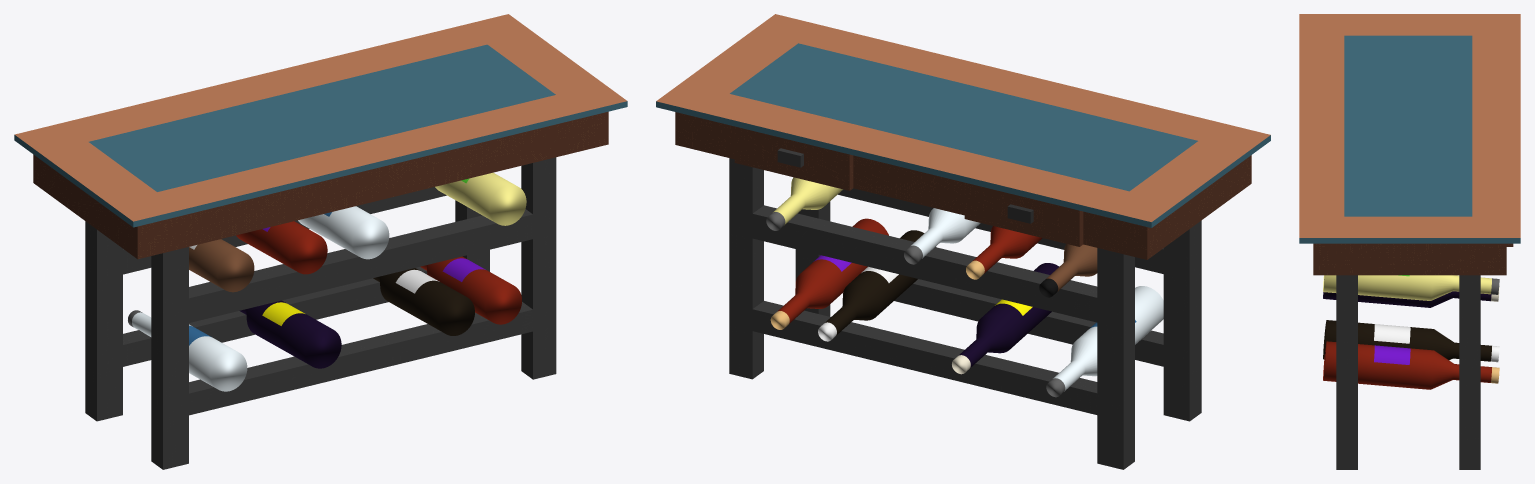
Rendered from liquorCart.glb.
The picture shows the model from 3 angles, left to right: view 1: azimuth 30°, elevation 25°; view 2: azimuth 150°, elevation 25°; view 3: azimuth 270°, elevation 25°; orthographic projection. The views are drawn at different scales.
Parts seen in each view (by area): view 1: Cylinder.005; view 2: Cylinder.005; view 3: Cylinder.005.
Part boxes in pixels (left/top/right/bottom): Cylinder.005: left=14, top=14, right=627, bottom=469; Cylinder.005: left=656, top=14, right=1270, bottom=469; Cylinder.005: left=1299, top=14, right=1520, bottom=469.
Bounding box in the file's own units: 4.8 × 2.55 × 2.
1 material, 1 textured.
